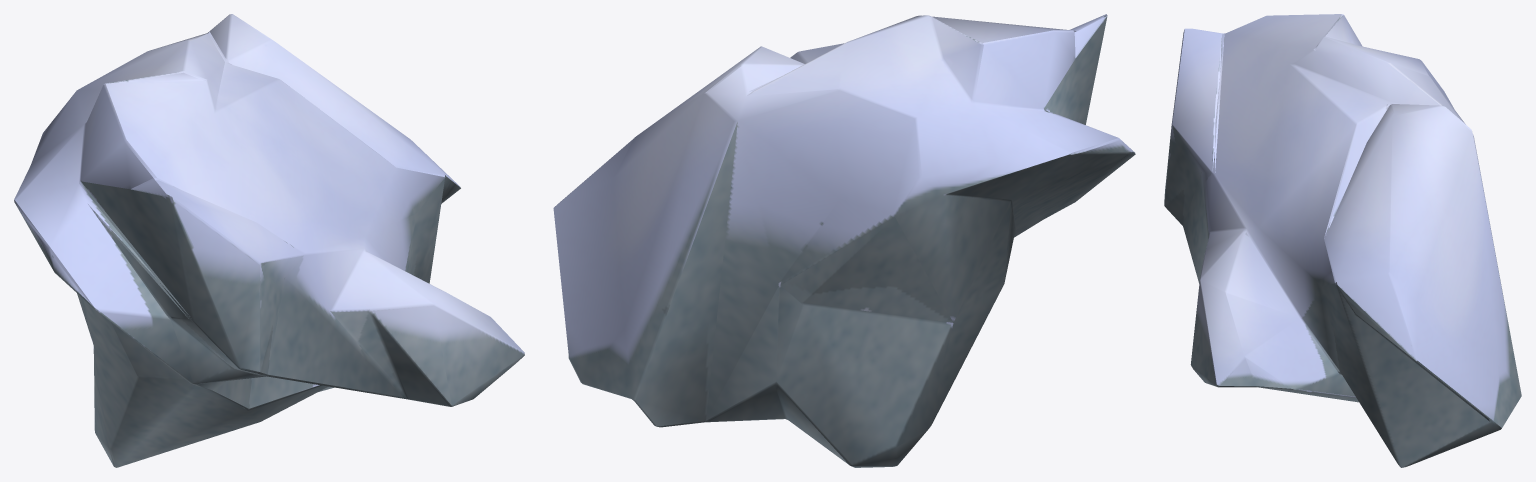
The model's file is Rock1.fbx.
3 views of the same model, side by side, from view 1: azimuth 30°, elevation 25°; view 2: azimuth 150°, elevation 25°; view 3: azimuth 270°, elevation 25° (orthographic). The views are drawn at different scales.
Visible parts, largest first — view 1: Rock1; view 2: Rock1; view 3: Rock1.
Boxes of the visible parts, x1,y1,x2,y2 form: Rock1: (14, 14, 524, 467); Rock1: (553, 14, 1135, 467); Rock1: (1164, 14, 1521, 467).
Size of the model in its own units: 753 by 620 by 577.
